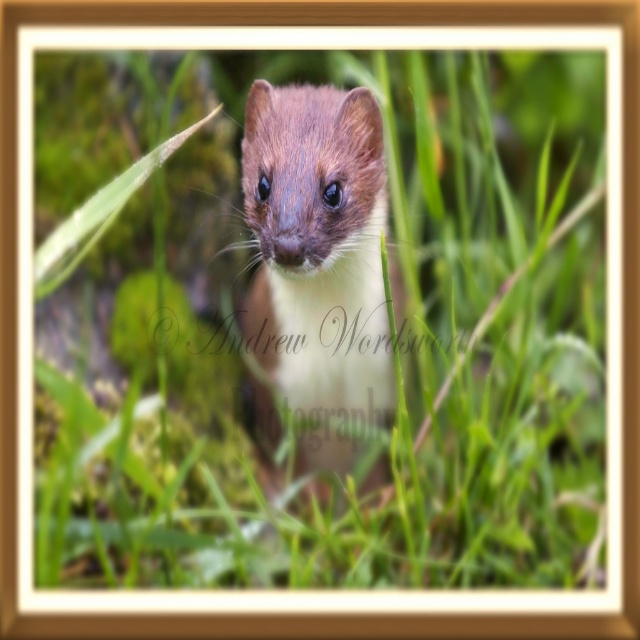Hamster: (167, 80, 439, 548)
